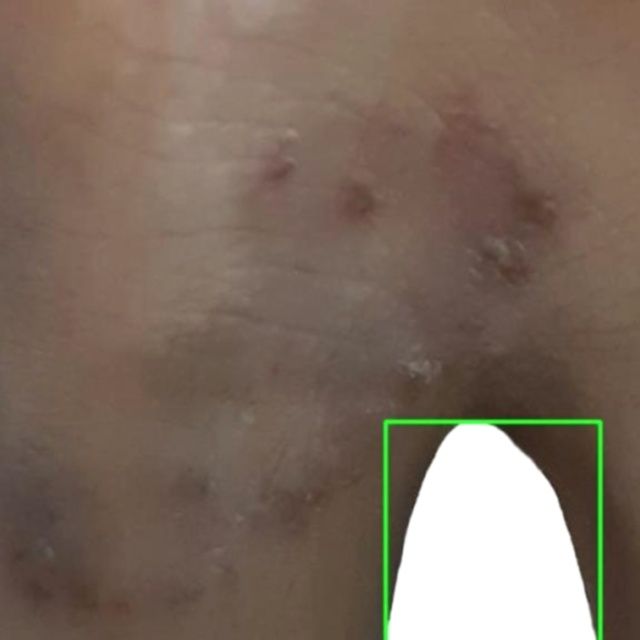Contact Dermatitis: (385, 421, 600, 639)
